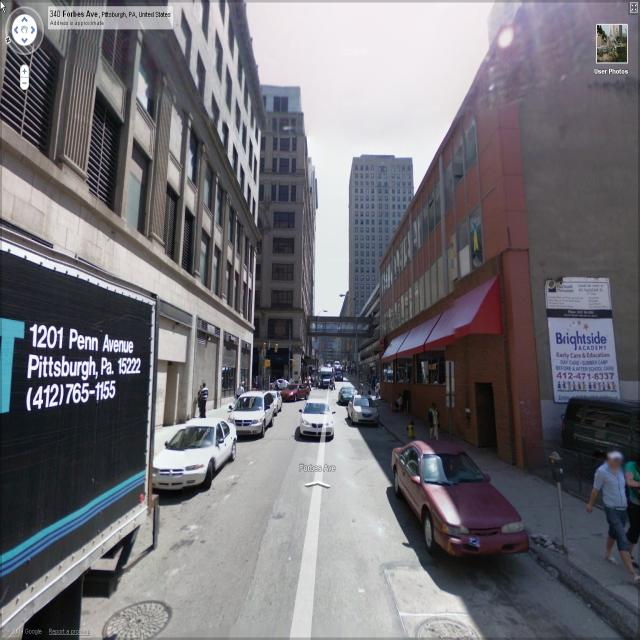b_1: (379, 1, 640, 402), (1, 30, 253, 382), (242, 103, 318, 386), (327, 156, 413, 315)
